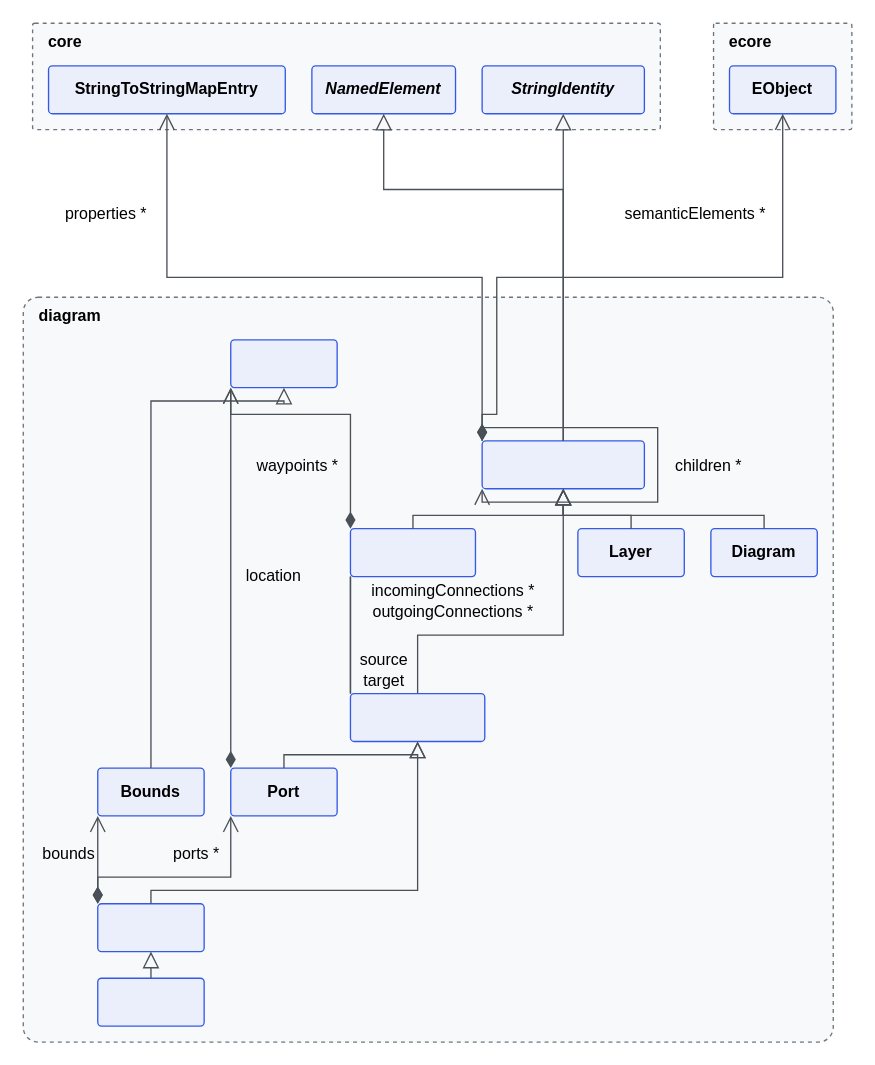
The diagram is 875 pixels wide and 1065 high, and some of its shapes have lost their labels. Here are the shapes that lost their labels. From the top down, the centre of each, then its label:
At (283,363): "Point".
At (562,464): "DiagramElement".
At (412,552): "Connection".
At (417,716): "Connectable".
At (150,927): "Node".
At (150,1001): "Label".
